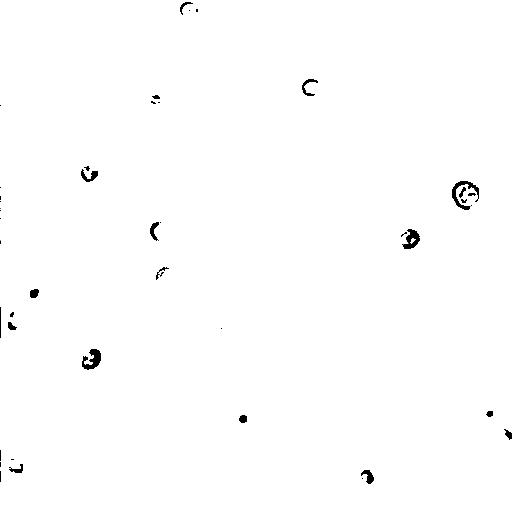micro-algae: (347, 22, 408, 84), (14, 275, 49, 311), (0, 301, 31, 337), (1, 449, 33, 482), (151, 264, 184, 293), (451, 179, 481, 210), (233, 401, 258, 429), (77, 346, 103, 371), (477, 403, 503, 426), (396, 227, 421, 249), (494, 419, 512, 448), (81, 157, 100, 182), (178, 0, 201, 20), (299, 77, 322, 97), (149, 221, 169, 242), (359, 467, 376, 487)
